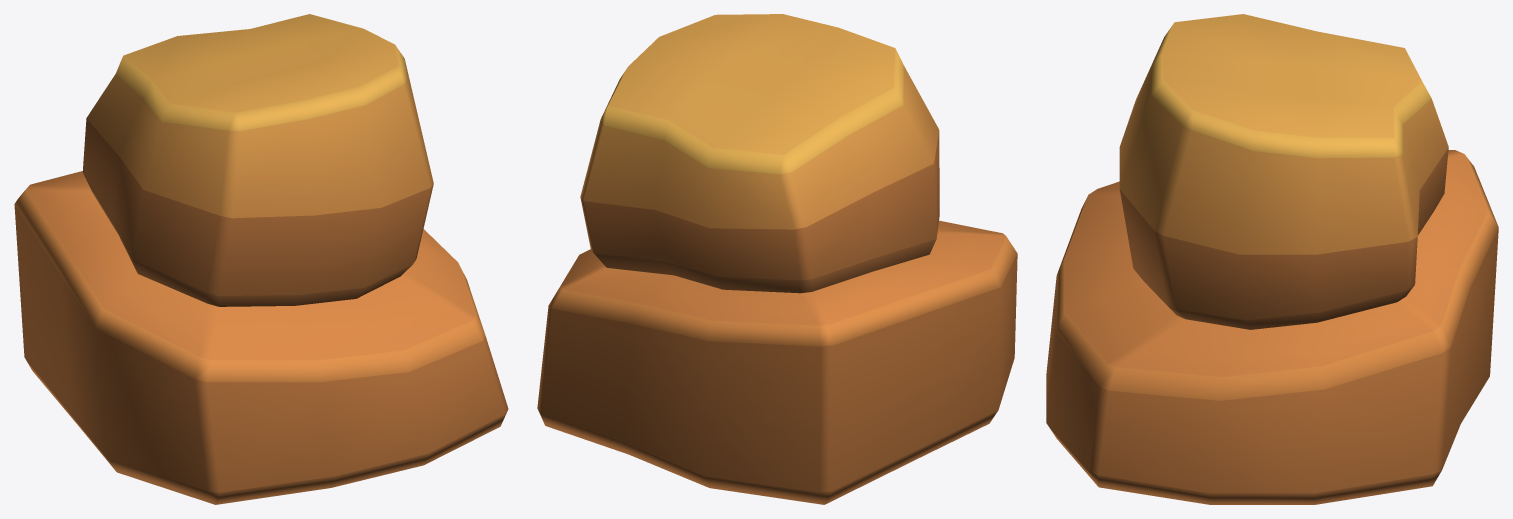
Rendered from rock_formation_light_11.fbx.
3 views of the same model, side by side, from view 1: azimuth 30°, elevation 25°; view 2: azimuth 150°, elevation 25°; view 3: azimuth 270°, elevation 25° (orthographic). The views are drawn at different scales.
Visible parts, largest first — view 1: rock_formation_light_11; view 2: rock_formation_light_11; view 3: rock_formation_light_11.
Part boxes in pixels (x1,y1,x2,y2): rock_formation_light_11: [14, 14, 508, 504]; rock_formation_light_11: [537, 14, 1017, 504]; rock_formation_light_11: [1046, 14, 1498, 504].
Bounding box in the file's own units: 344 × 286 × 333.
